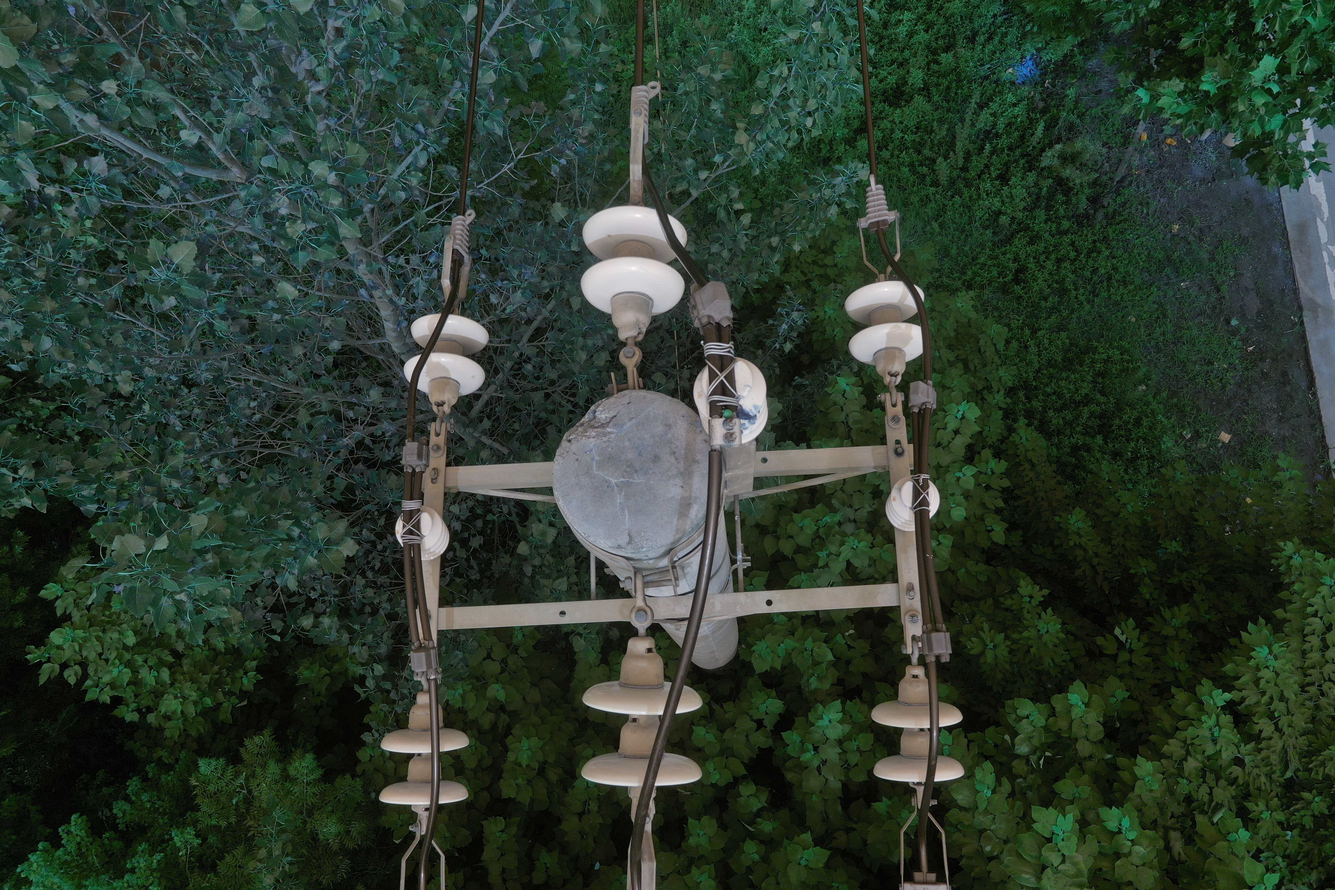severe_soiling_no_discharge_whole: (691, 354, 771, 445)
